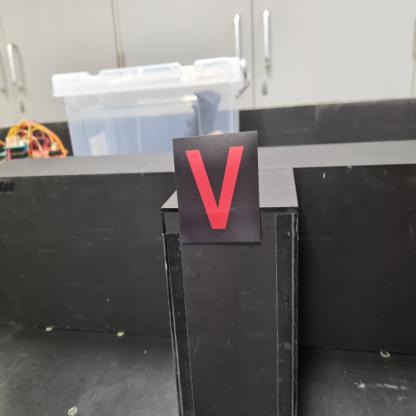v: (171, 129, 264, 245)
